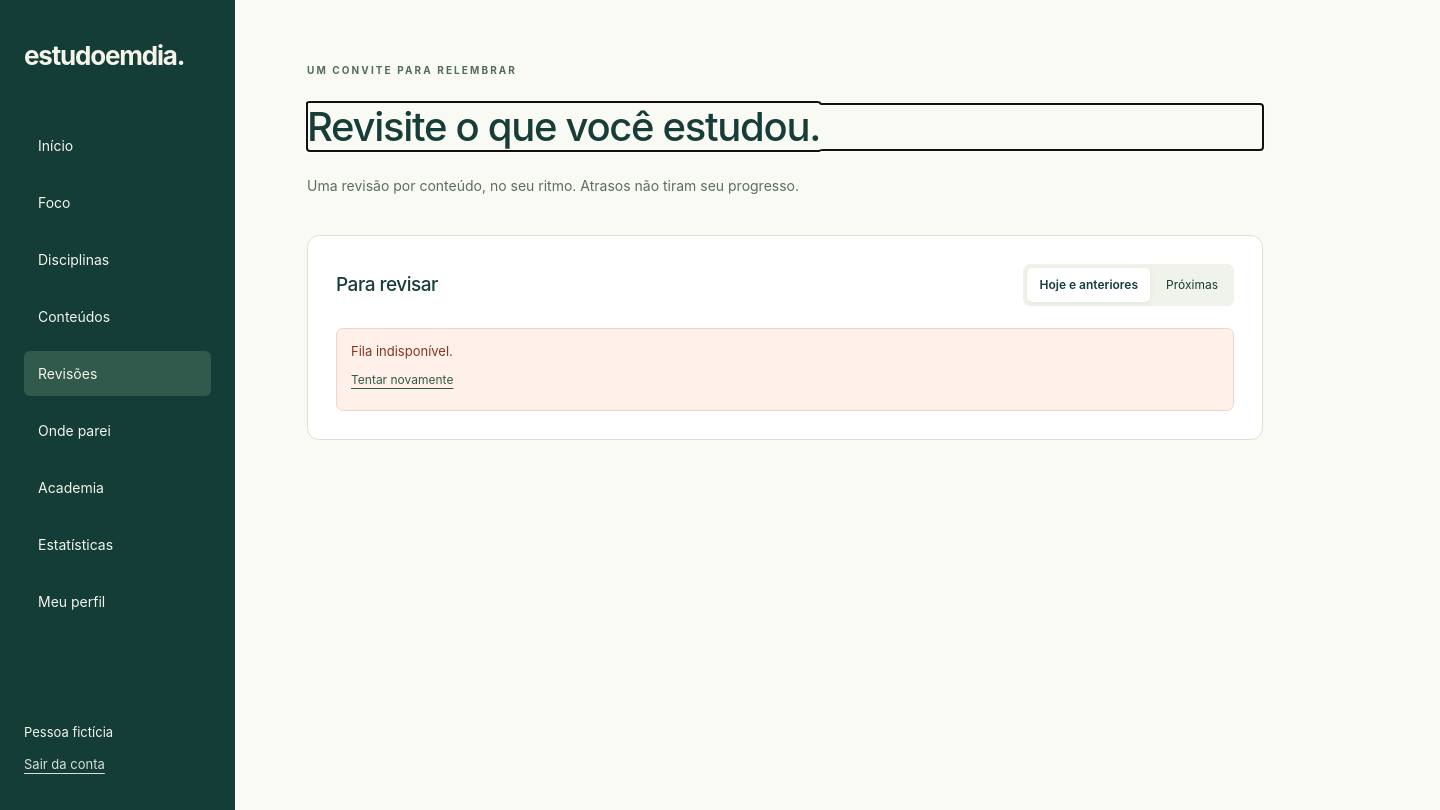
Scenario: revisão por autoavaliação › erro da fila pode ser reconsultado sem exibir números fictícios
The image size is (1440, 810).
Expected: the message "Fila indisponível." is shown, top-left (351, 343), bottom-right (453, 359)
Expected: the text "conteúdo nesta lista" is not shown
Click the button "Tentar novamente" at point(402, 380), box top-left (351, 362), bottom-right (453, 398)
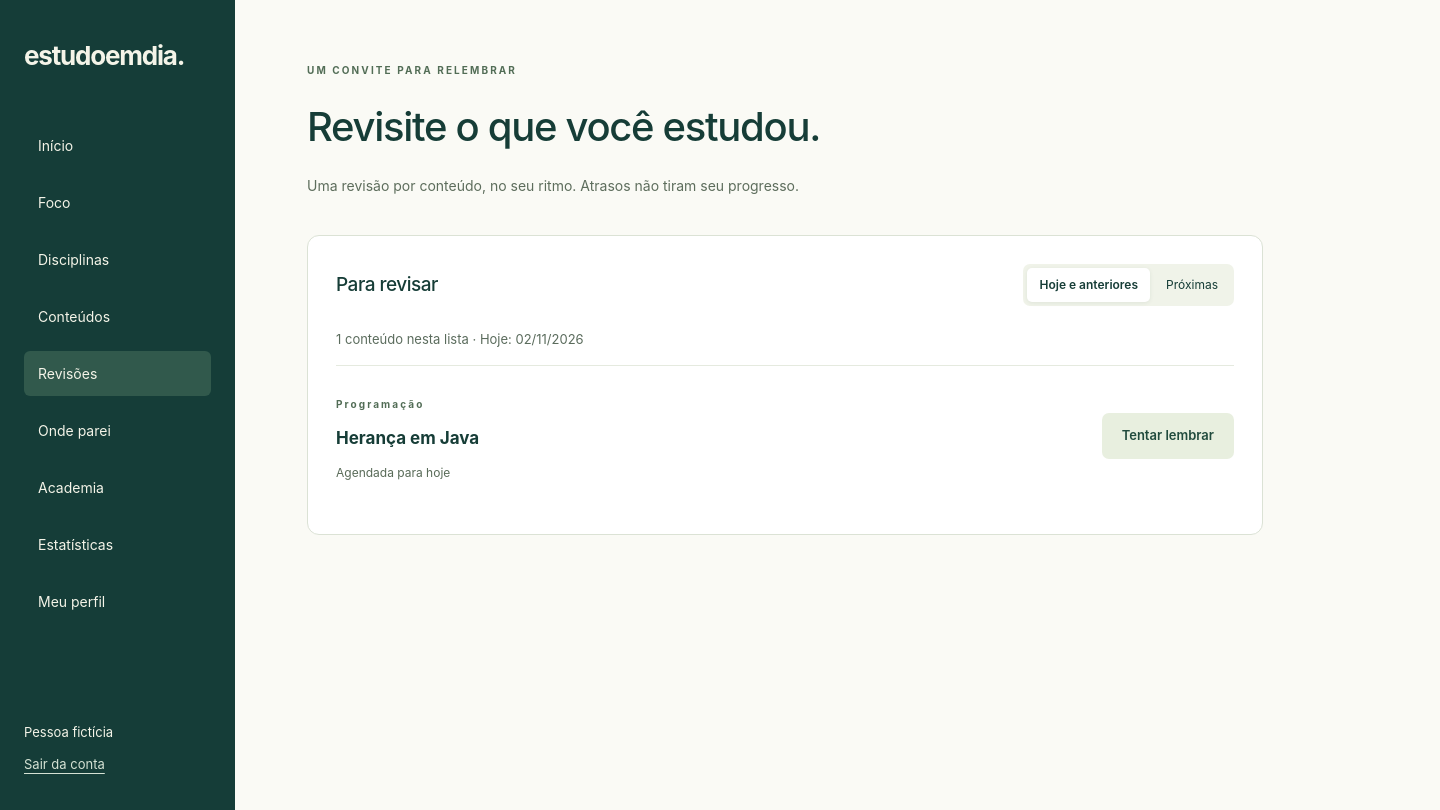
Expected: the heading "Herança em Java" is shown, top-left (336, 426), bottom-right (479, 452)
